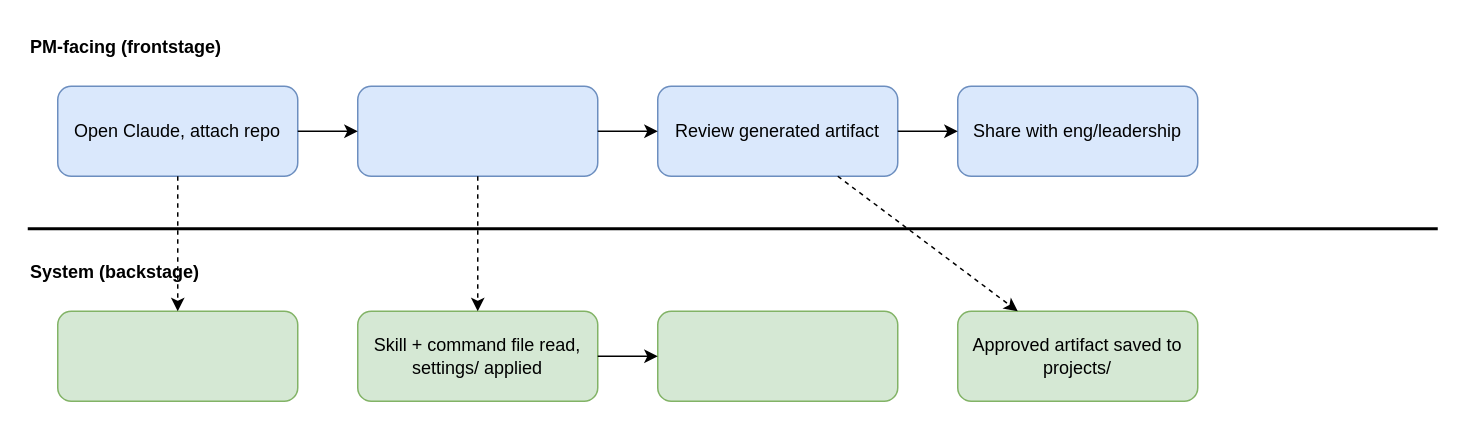
Image size: 1464x428. Some labels were removed from this diagram. The box of each missing label's shape, as (x1, y1, x2, y2) in pixels:
Ask for a skill + template by name: (356, 85, 598, 176)
Output structured against artifacts/ template: (656, 310, 898, 401)
Repo loaded into context: (56, 310, 298, 401)
